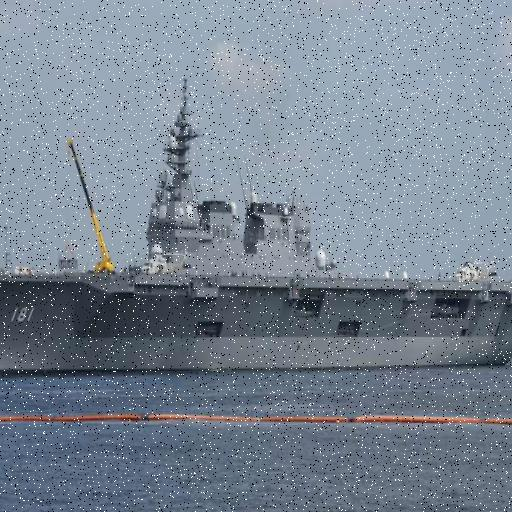Portanaves: (1, 76, 512, 383)
